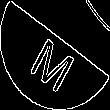M_NE: (28, 21, 82, 89)
